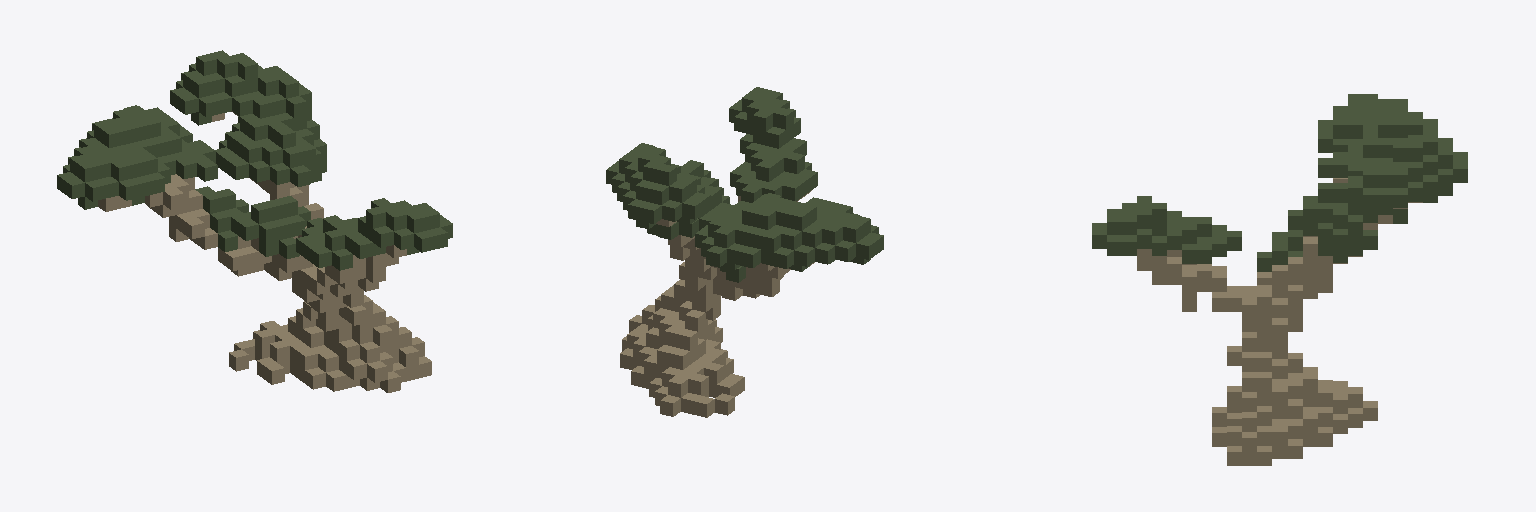
The picture shows the model from 3 angles: view 1: azimuth 30°, elevation 25°; view 2: azimuth 150°, elevation 25°; view 3: azimuth 270°, elevation 25°; orthographic projection.
Visible parts, largest first — view 1: Model; view 2: Model; view 3: Model.
Part boxes in pixels (left/top/right/bottom): Model: left=57, top=50, right=452, bottom=392; Model: left=606, top=87, right=883, bottom=417; Model: left=1092, top=94, right=1467, bottom=465.
Size of the model in its own units: 11.5 by 10 by 12.5.
Materials: 1 (1 with a texture image).